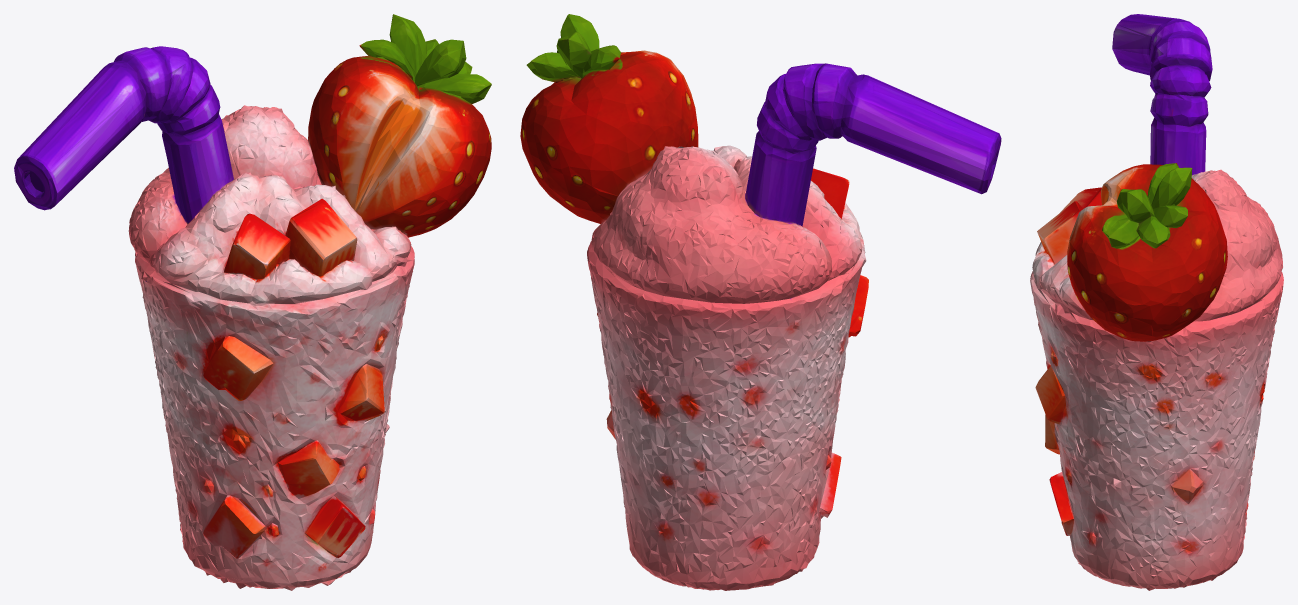
The model's file is Web_MilkSlush_Strawberry.obj.
The picture shows the model from 3 angles, left to right: view 1: azimuth 30°, elevation 25°; view 2: azimuth 150°, elevation 25°; view 3: azimuth 270°, elevation 25°; orthographic projection. The views are drawn at different scales.
Visible parts, largest first — view 1: Web_MilkSlush_Strawberry; view 2: Web_MilkSlush_Strawberry; view 3: Web_MilkSlush_Strawberry.
Boxes of the visible parts, x1=… form: Web_MilkSlush_Strawberry: x1=14, y1=14, x2=491, y2=590; Web_MilkSlush_Strawberry: x1=520, y1=14, x2=1001, y2=590; Web_MilkSlush_Strawberry: x1=1030, y1=14, x2=1283, y2=590.
Size of the model in its own units: 0.9147 by 0.999 by 0.4801.
1 material, 1 textured.
